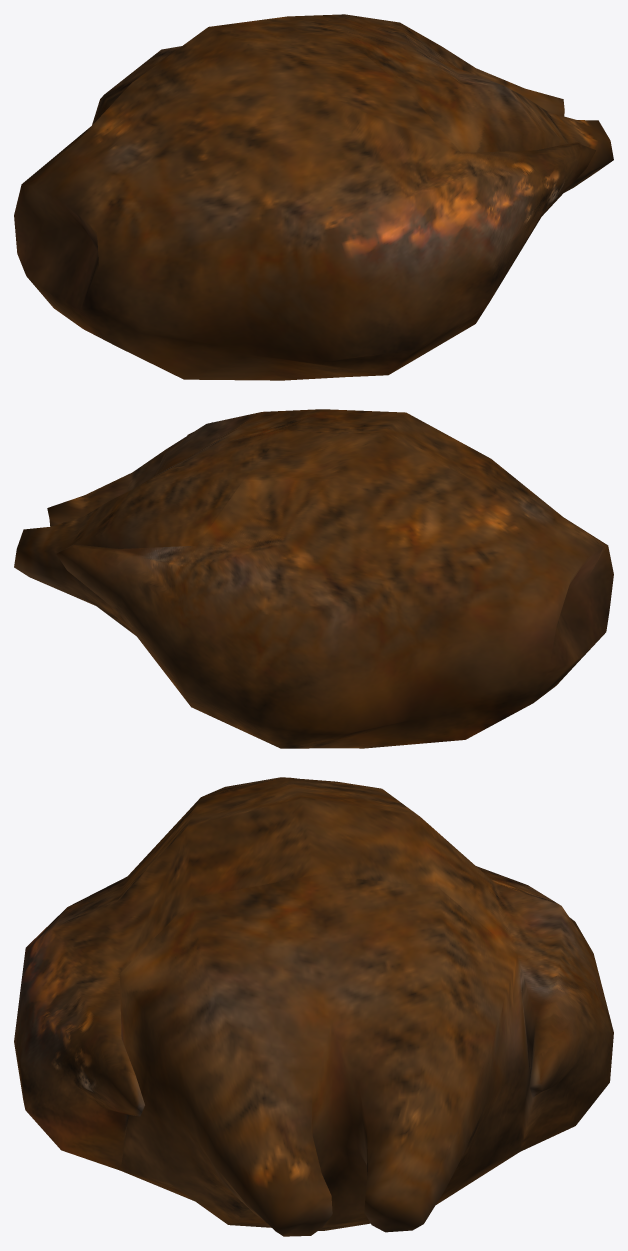
Rendered from Turkey.fbx.
3 views of the same model, one above another, from view 1: azimuth 30°, elevation 25°; view 2: azimuth 150°, elevation 25°; view 3: azimuth 270°, elevation 25° (orthographic). The views are drawn at different scales.
Parts seen in each view (by area): view 1: Turkey; view 2: Turkey; view 3: Turkey.
Boxes of the visible parts, box(x1,y1,x2,y2) form: Turkey: box(14, 14, 613, 380); Turkey: box(14, 409, 613, 748); Turkey: box(14, 777, 613, 1236).
Size of the model in its own units: 0.5189 by 0.263 by 0.3948.
